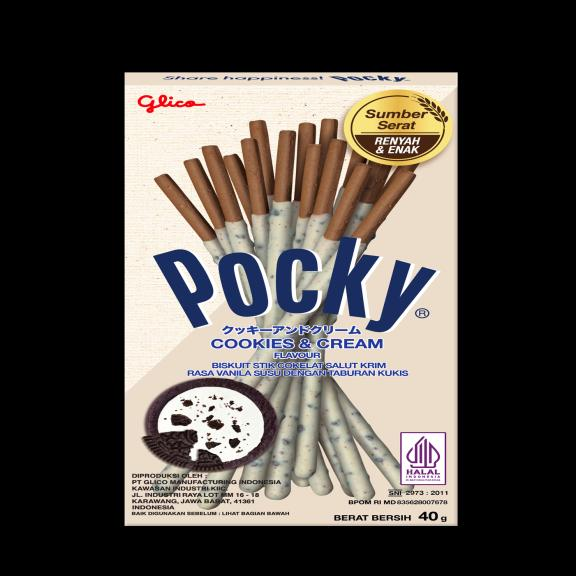Kertas: (134, 73, 452, 526)
